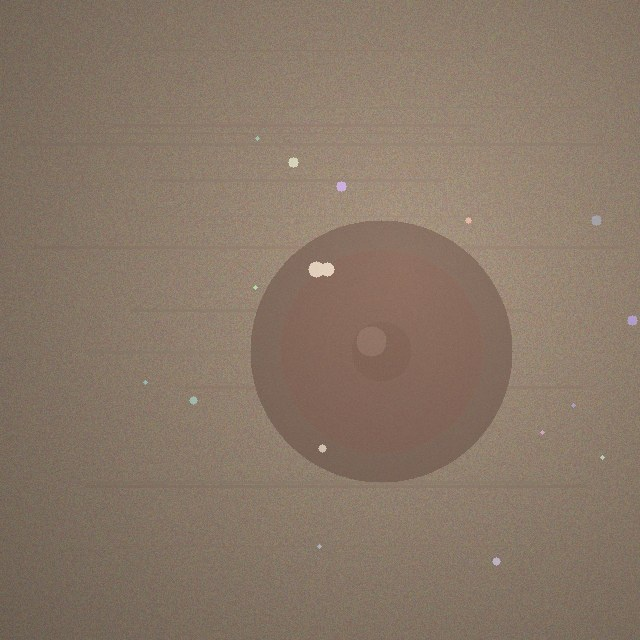overburn: (250, 220, 512, 482)
